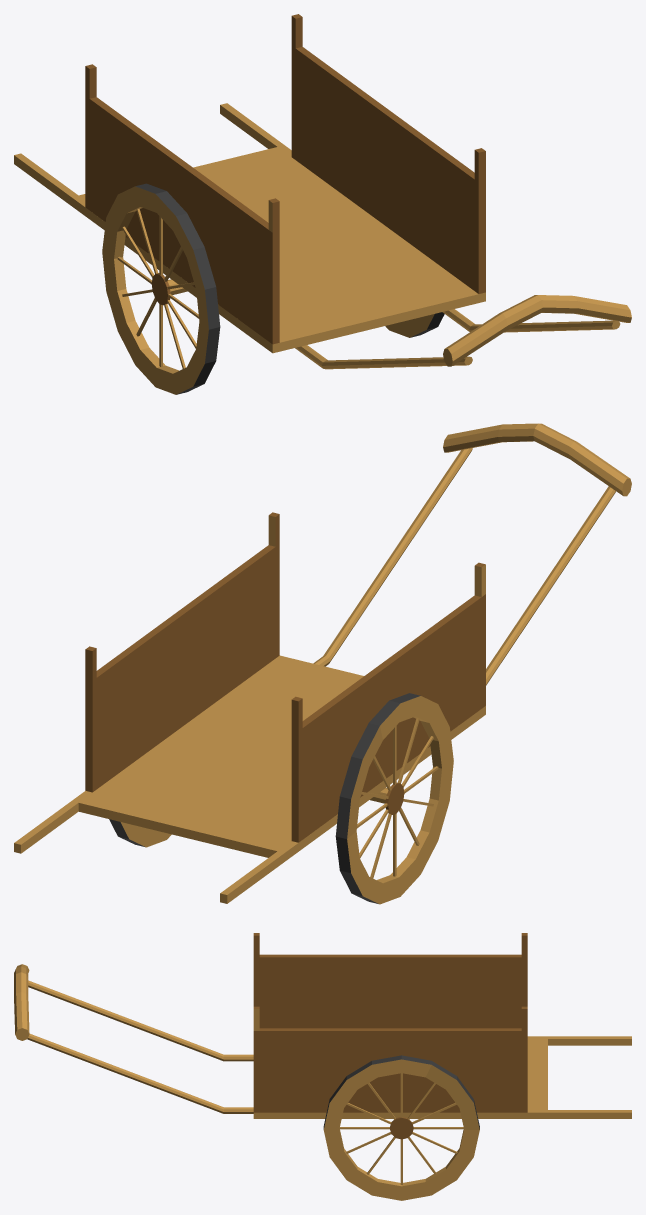
Rendered from heavy.fbx.
The picture shows the model from 3 angles, top to bottom: view 1: azimuth 30°, elevation 25°; view 2: azimuth 150°, elevation 25°; view 3: azimuth 270°, elevation 25°; orthographic projection. The views are drawn at different scales.
Visible parts, largest first — view 1: Heavy; view 2: Heavy; view 3: Heavy.
Part boxes in pixels (bbox=[...]): Heavy: bbox=[14, 14, 631, 394]; Heavy: bbox=[14, 423, 631, 904]; Heavy: bbox=[14, 933, 631, 1200].
Size of the model in its own units: 1.72 by 1.71 by 5.15.
